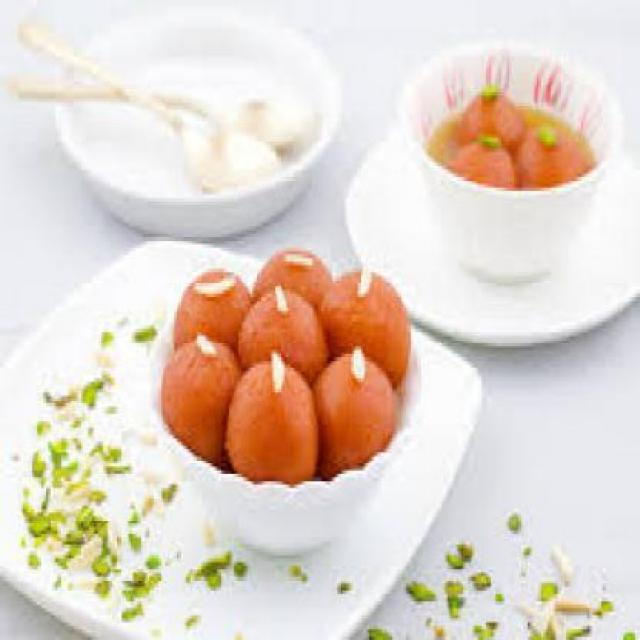gulab_jamun: (228, 360, 320, 488), (320, 269, 411, 391), (312, 352, 396, 482), (162, 338, 240, 469), (240, 286, 328, 386), (174, 271, 251, 360), (252, 248, 331, 315), (517, 125, 591, 189), (460, 88, 526, 152), (450, 137, 516, 189)
